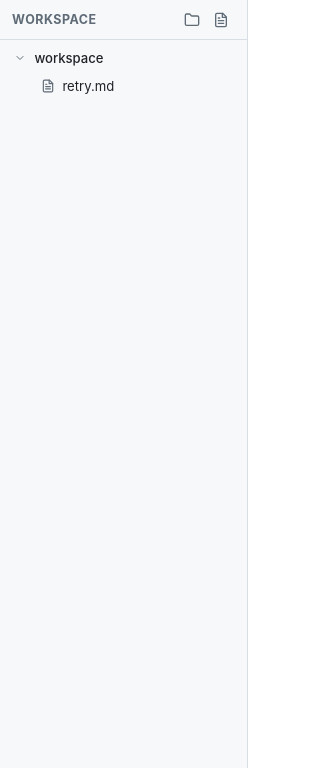
Scenario: Sidebar 文件树 › 文件读取失败后在原行提示错误并允许点击重试
Click the button "retry.md".
click(124, 86)  # box [4, 72, 243, 100]
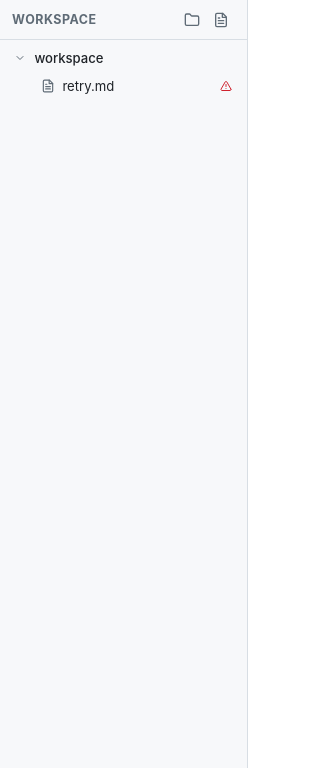
Check: the element named "打开失败，点击重试" is shown, box [219, 79, 233, 93]
Click the button "retry.md".
click(124, 86)  # box [4, 72, 243, 100]
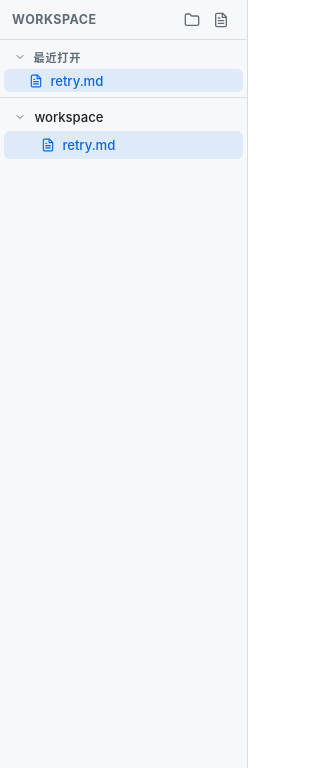
Check: the field labelled "打开失败，点击重试" is gone
